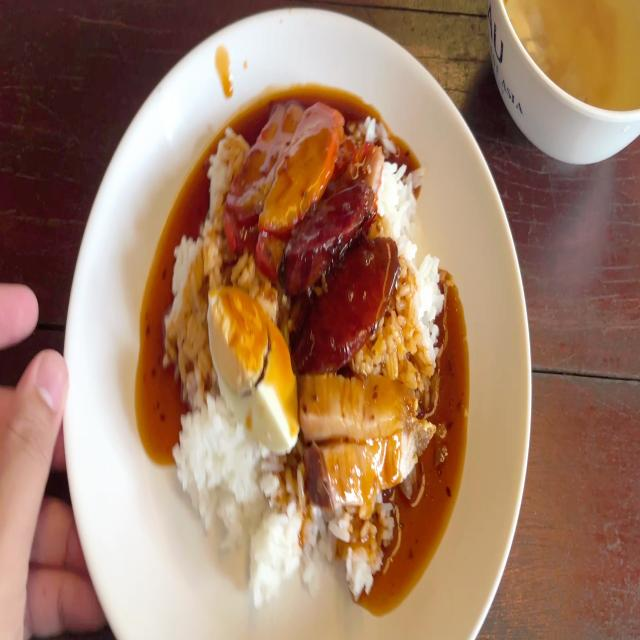boiled_egg: (213, 292, 295, 442)
chainese_sausage: (288, 186, 400, 360)
crispy_pork: (299, 371, 439, 502)
red_pork: (229, 102, 348, 241)
red_pork_and_crispy_pork: (162, 112, 450, 592)
rice: (162, 403, 248, 522), (245, 481, 316, 592), (165, 230, 210, 396)
